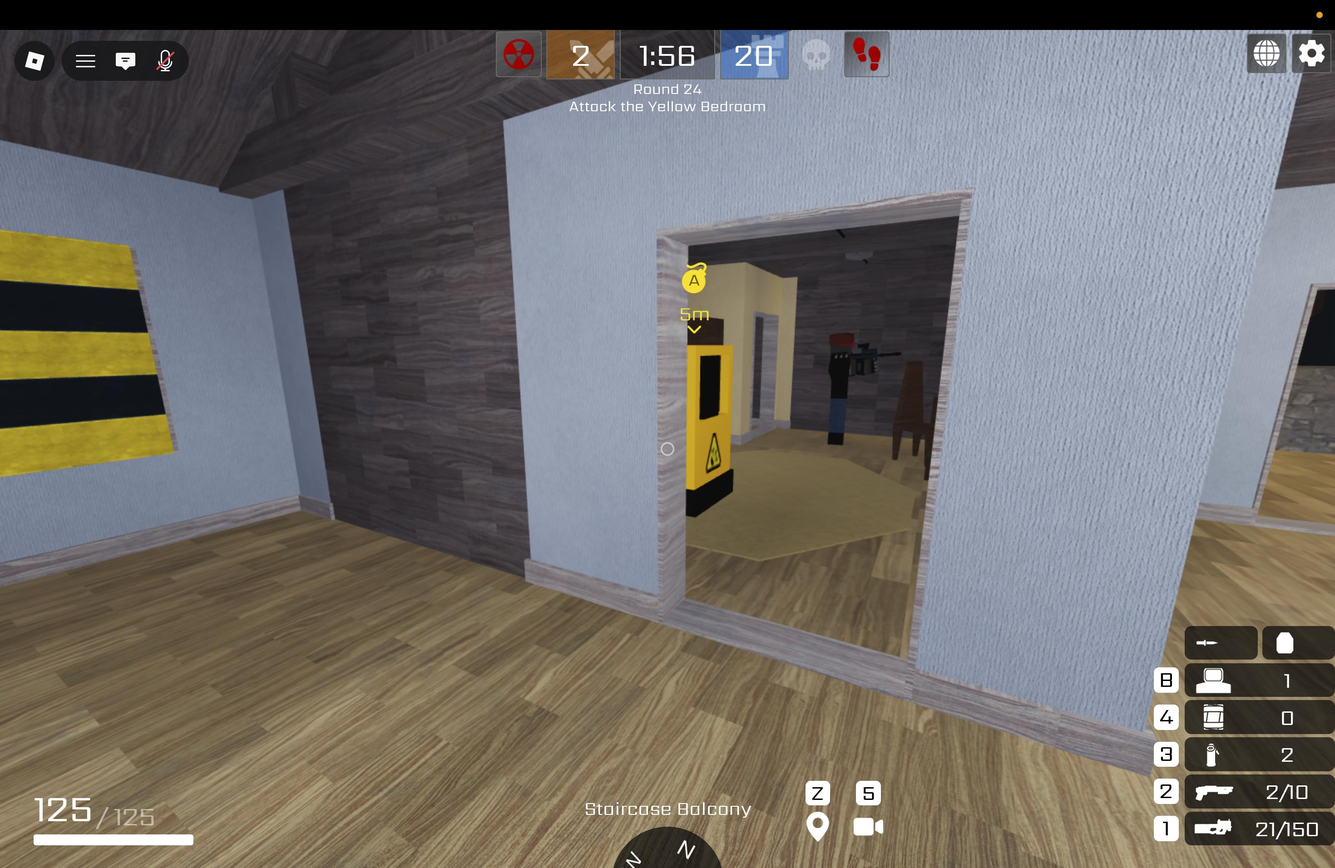enemy: (820, 328, 877, 450)
